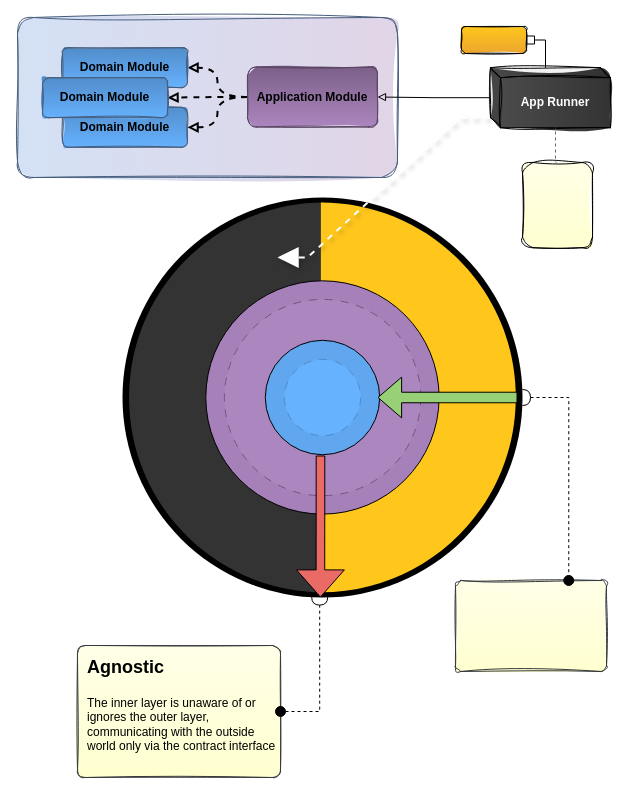
Some shapes in this 628 by 795 pixel diagram are drawn without their labels. Each missing label, with the centre of its shape:
"+ Plug Infra" belongs at [493,40].
"Dependency The outer layer depends on the inner layer" belongs at [530,626].
"Mobile App Web App Worker Lambda CLI App GUI App" belongs at [557,205].
